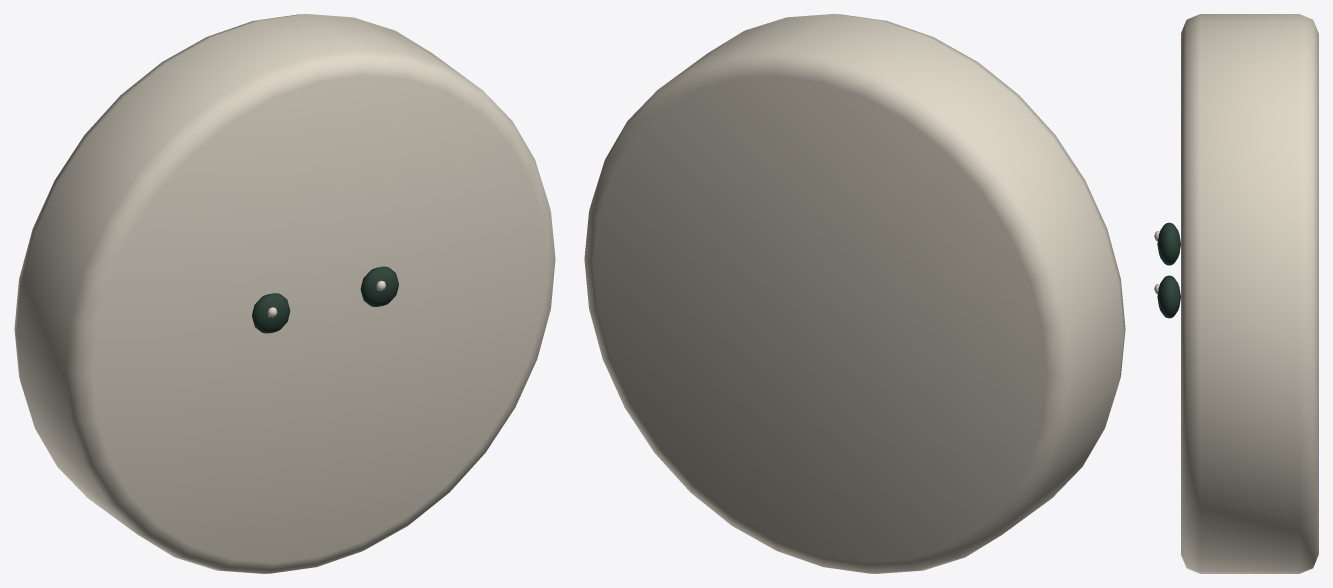
3 renders of one model, left to right at view 1: azimuth 30°, elevation 25°; view 2: azimuth 150°, elevation 25°; view 3: azimuth 270°, elevation 25°, orthographic.
Parts seen in each view (by area): view 1: color_body, body; view 2: color_body; view 3: color_body, body.
Part boxes in pixels (<box>): color_body: <box>14,14,555,573</box>; body: <box>252,266,398,333</box>; color_body: <box>584,14,1125,573</box>; color_body: <box>1181,14,1318,573</box>; body: <box>1154,222,1180,318</box>.
Size of the model in its own units: 1.3 by 1.3 by 0.382.
